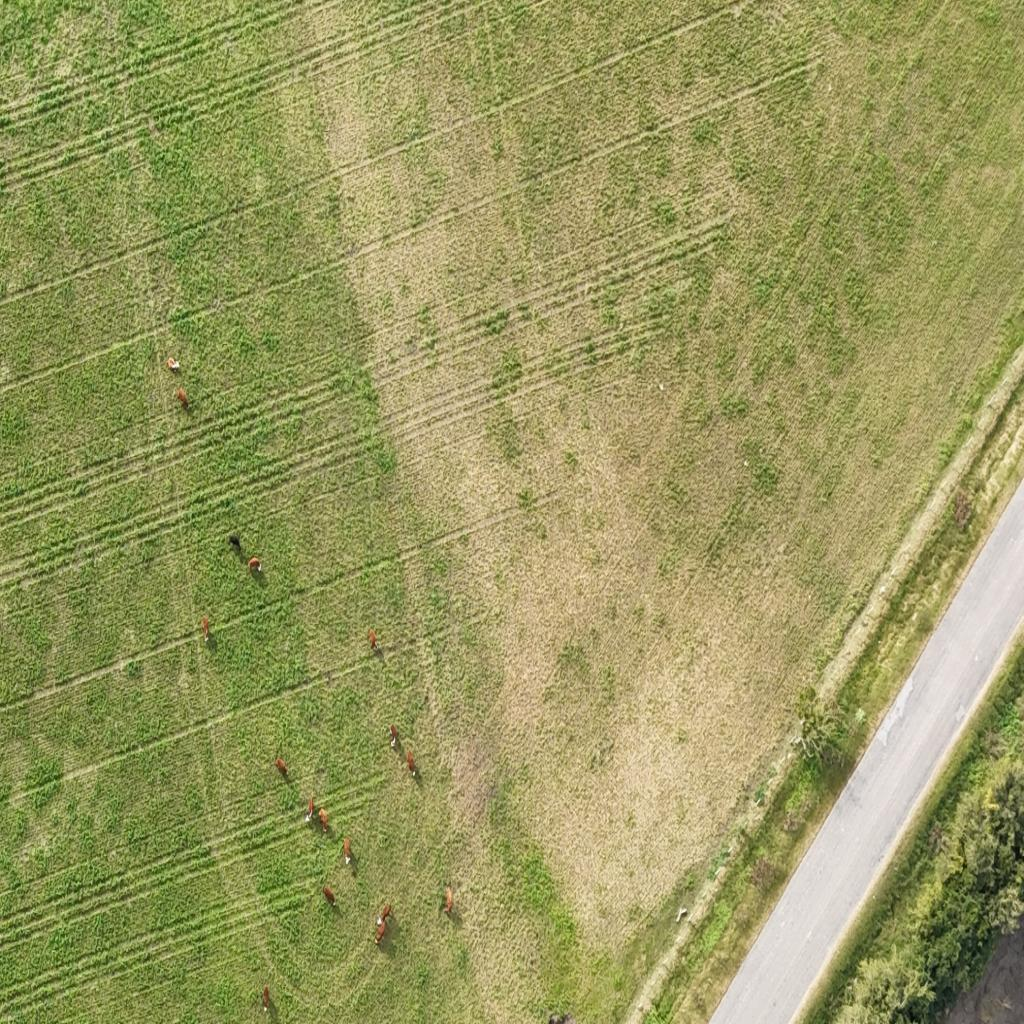cow: (322, 884, 336, 908), (340, 832, 352, 860), (375, 917, 387, 944), (378, 903, 392, 925), (443, 886, 453, 916), (276, 754, 288, 778), (318, 808, 328, 835), (406, 750, 416, 776), (229, 533, 242, 553), (249, 556, 262, 574), (368, 629, 378, 651), (306, 795, 314, 822), (167, 358, 180, 374), (178, 388, 188, 408), (202, 616, 210, 641), (389, 724, 397, 748), (263, 985, 269, 1010)
